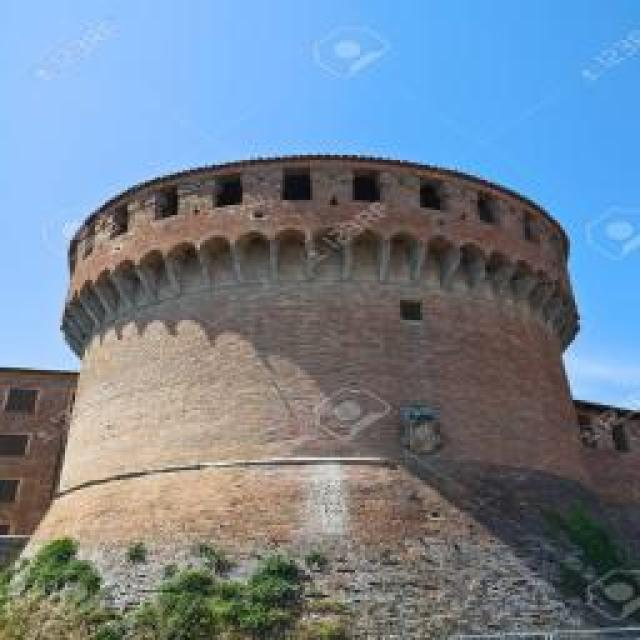vegetation: (0, 535, 351, 638)
